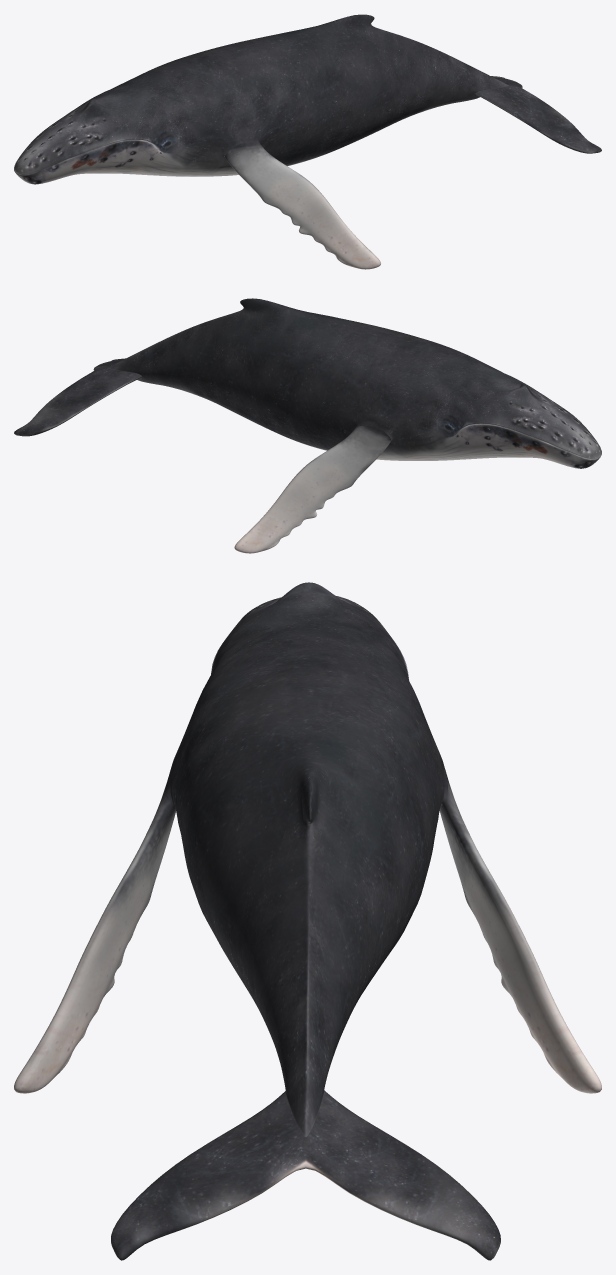
Rendered from 10054_Whale_v2_L3.obj.
3 views of the same model, one above another, from view 1: azimuth 30°, elevation 25°; view 2: azimuth 150°, elevation 25°; view 3: azimuth 270°, elevation 25° (orthographic). The views are drawn at different scales.
Parts seen in each view (by area): view 1: 10054_Whale_v2_L3; view 2: 10054_Whale_v2_L3; view 3: 10054_Whale_v2_L3.
Boxes of the visible parts, x1=… form: 10054_Whale_v2_L3: x1=14, y1=14, x2=601, y2=269; 10054_Whale_v2_L3: x1=14, y1=298, x2=601, y2=553; 10054_Whale_v2_L3: x1=14, y1=582, x2=601, y2=1260.
Bounding box in the file's own units: 759 × 253 × 372.
1 material, 1 textured.
